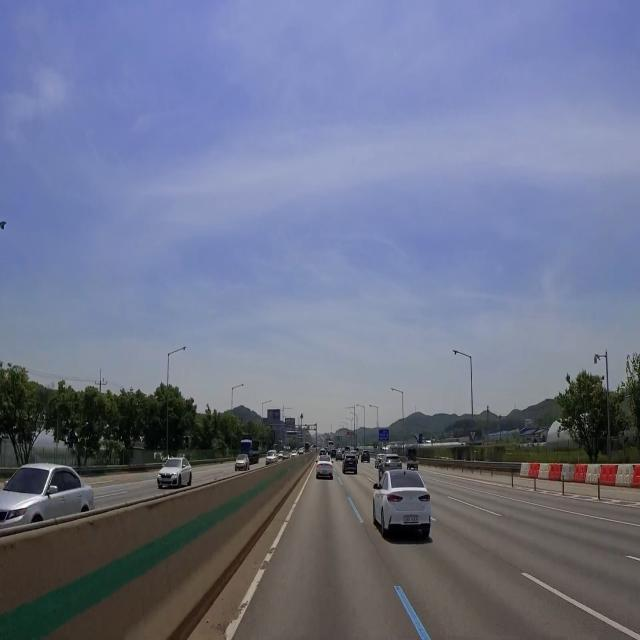car: (401, 513, 421, 527), (316, 466, 332, 483), (161, 477, 171, 488)
